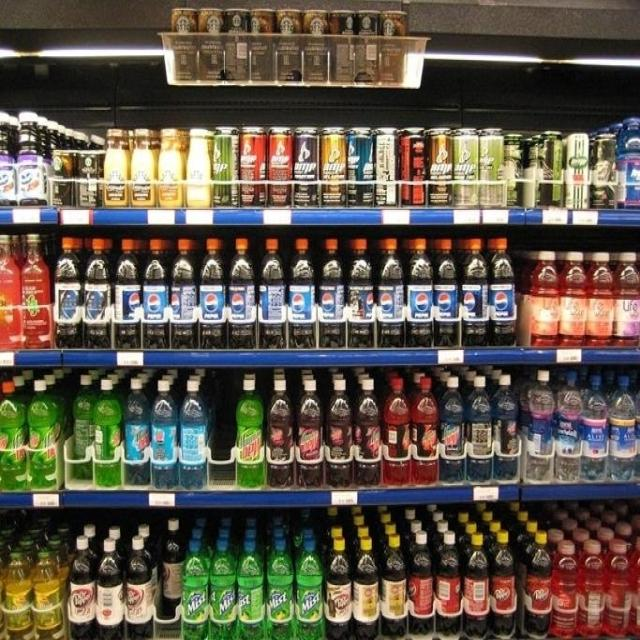Glass: (527, 241, 640, 349), (557, 512, 637, 640), (1, 112, 103, 206), (108, 120, 203, 201), (0, 225, 53, 337)
Plastics: (1, 381, 640, 486), (0, 527, 553, 640), (52, 241, 521, 345)
can: (212, 125, 640, 224), (164, 4, 422, 95)
